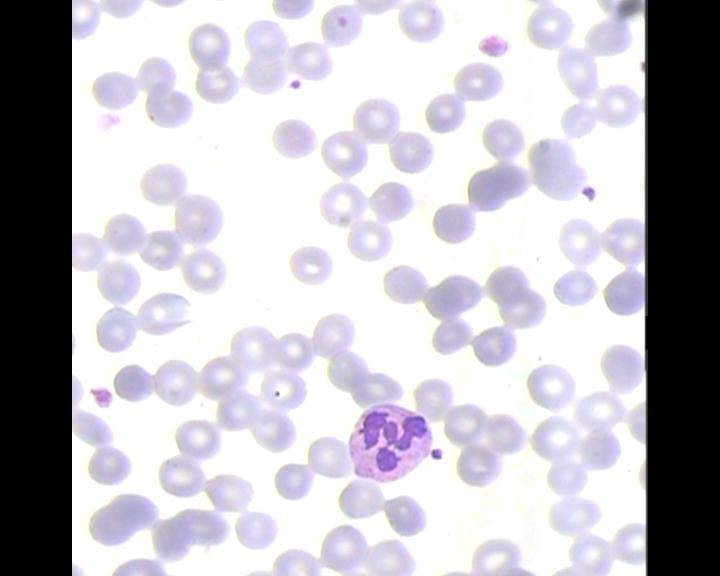neut: (349, 398, 436, 485)
